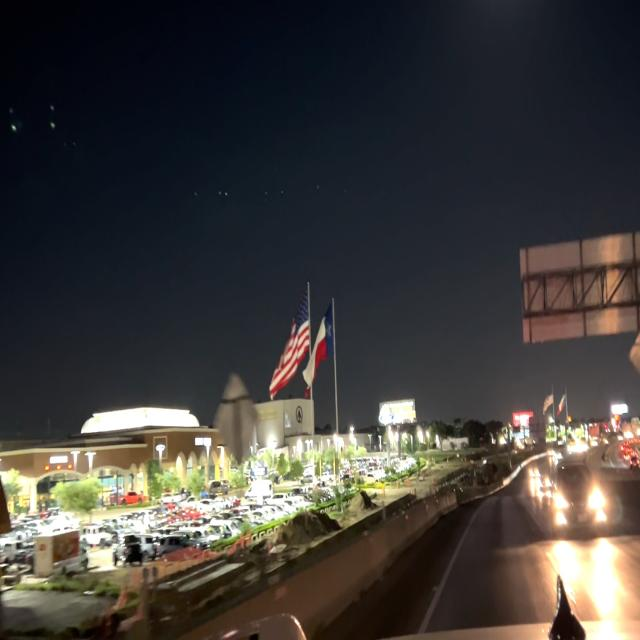back-of-sign: (516, 236, 640, 347)
